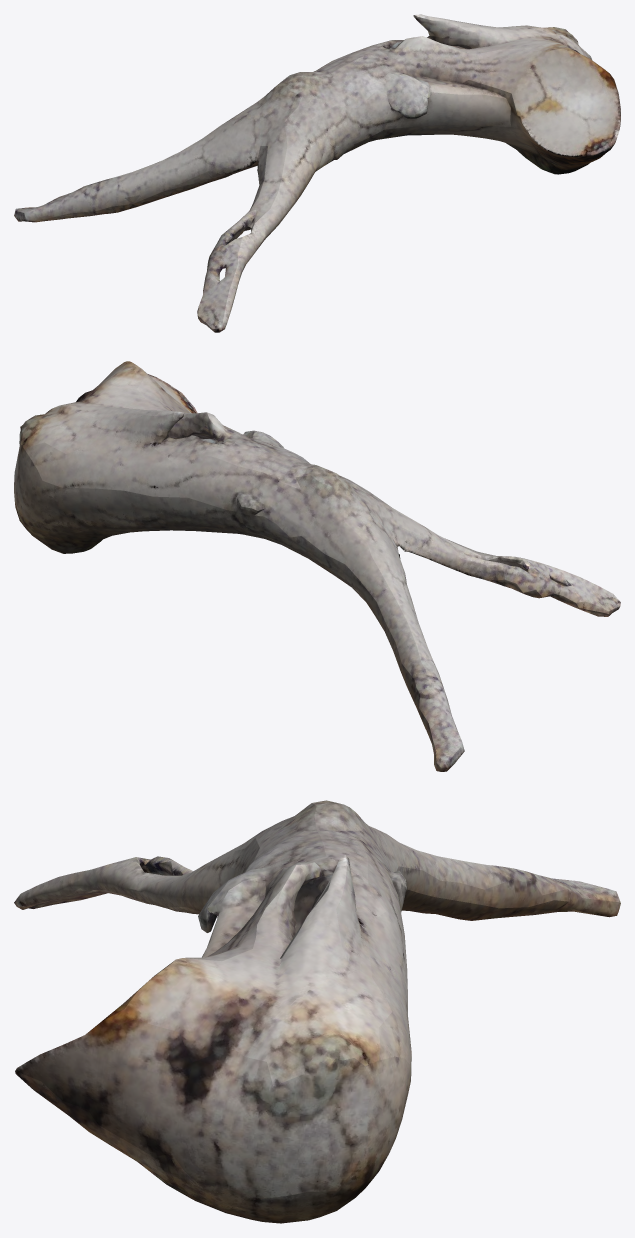
File: log-driftwood.glb
3 views of the same model, one above another, from view 1: azimuth 30°, elevation 25°; view 2: azimuth 150°, elevation 25°; view 3: azimuth 270°, elevation 25° (orthographic). The views are drawn at different scales.
Parts seen in each view (by area): view 1: log-driftwood; view 2: log-driftwood; view 3: log-driftwood.
Boxes of the visible parts, x1,y1,x2,y2 form: log-driftwood: (14, 14, 620, 332); log-driftwood: (14, 361, 620, 771); log-driftwood: (14, 800, 620, 1223).
Bounding box in the file's own units: 2.13 × 0.7983 × 1.41.
1 material, 1 textured.
